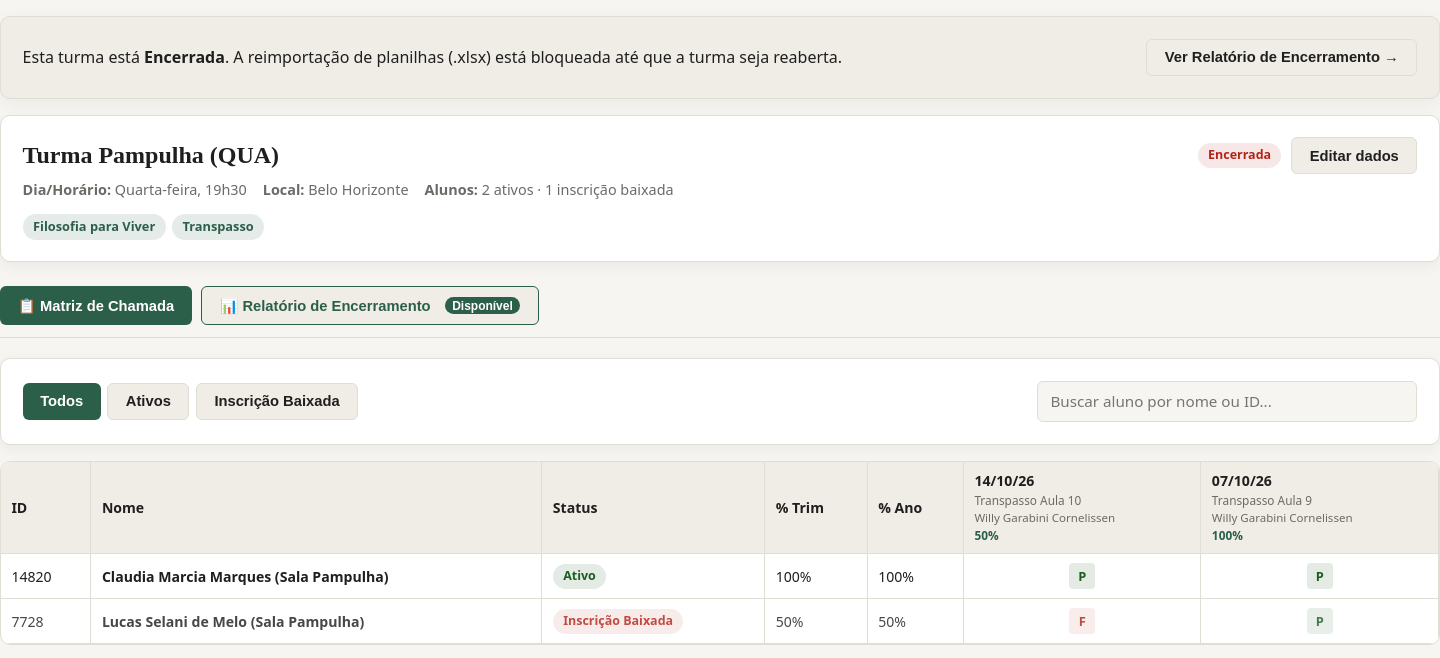
Test: components/TurmaDetailView › highlights report button and supports quick navigation from Encerrada banner (ENCERR-03)
This screenshot has width=1440, height=658.
Expected: the text "Disponível" is shown, [445,297,520,314]
Step 1. Click the button "Ver Relatório de Encerramento →" → (1282, 57), box [1146,39,1417,76]
(page scrolled)
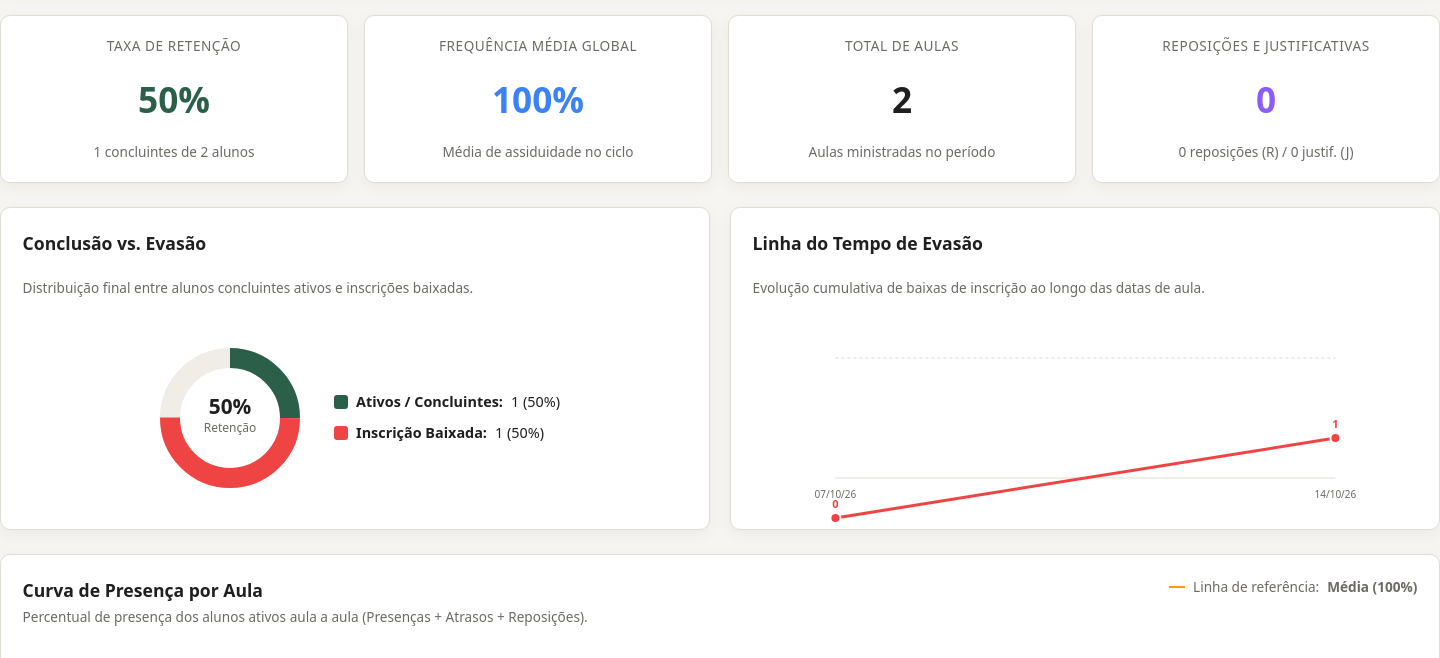
Expected: the element "Conclusão vs. Evasão" is shown, [0,207,710,530]
